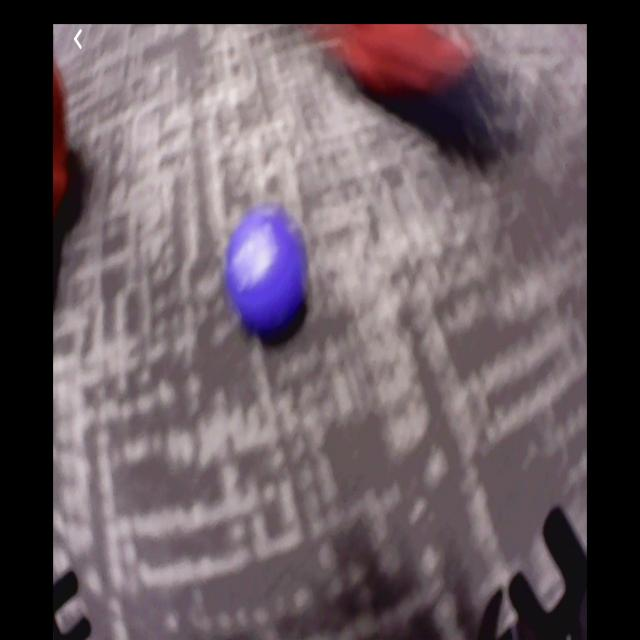ball: (230, 214, 307, 333)
